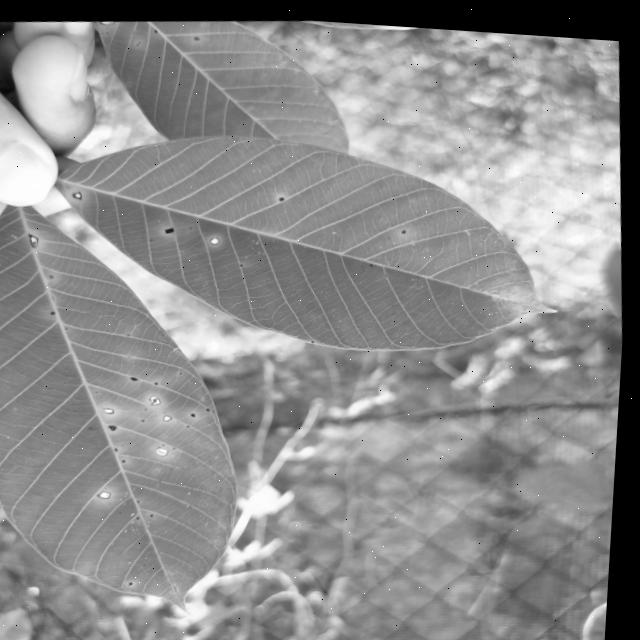Colletotrichum: (31, 232, 42, 248), (160, 443, 175, 454), (102, 488, 118, 498), (154, 392, 166, 403), (211, 233, 223, 242), (108, 405, 118, 413), (167, 411, 177, 418), (75, 191, 84, 198), (114, 422, 122, 429), (280, 193, 286, 197), (403, 223, 408, 227), (119, 445, 124, 449), (196, 410, 200, 414), (135, 579, 139, 583), (53, 274, 57, 277), (211, 405, 214, 409), (159, 380, 163, 382), (127, 457, 131, 459), (142, 514, 146, 516), (157, 511, 160, 513)
